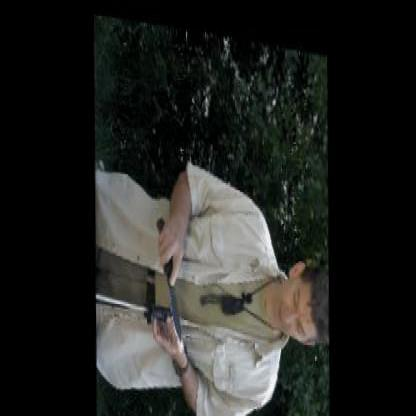knife: (153, 209, 189, 339)
